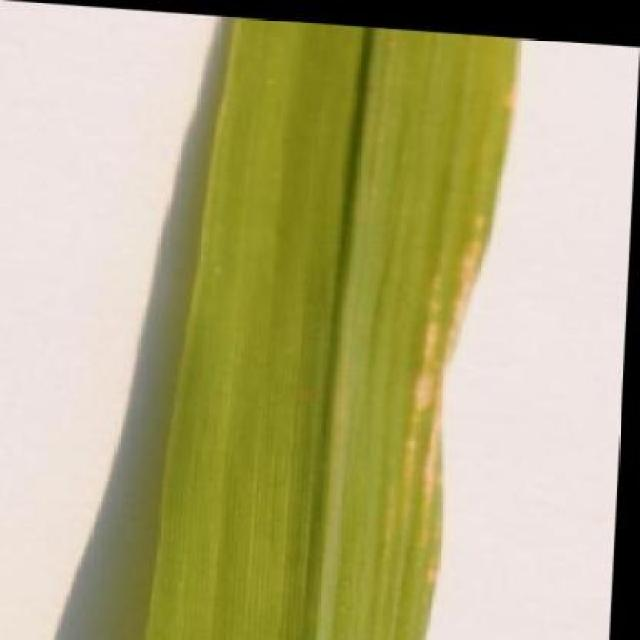Brown_Spot: (353, 178, 512, 634)
